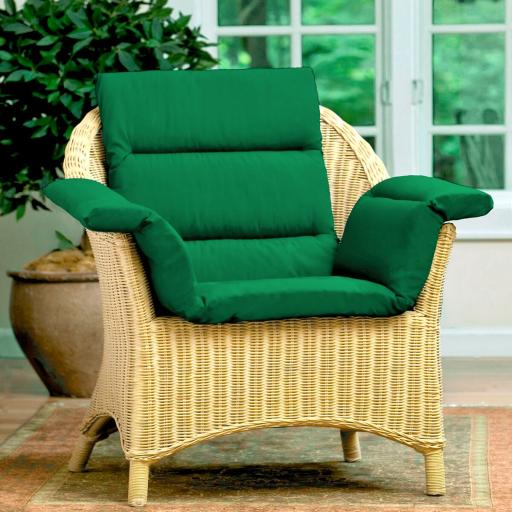chair: (42, 68, 493, 506)
